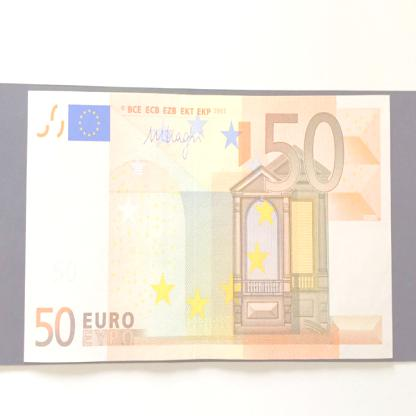euro_banknote: (26, 93, 396, 364)
